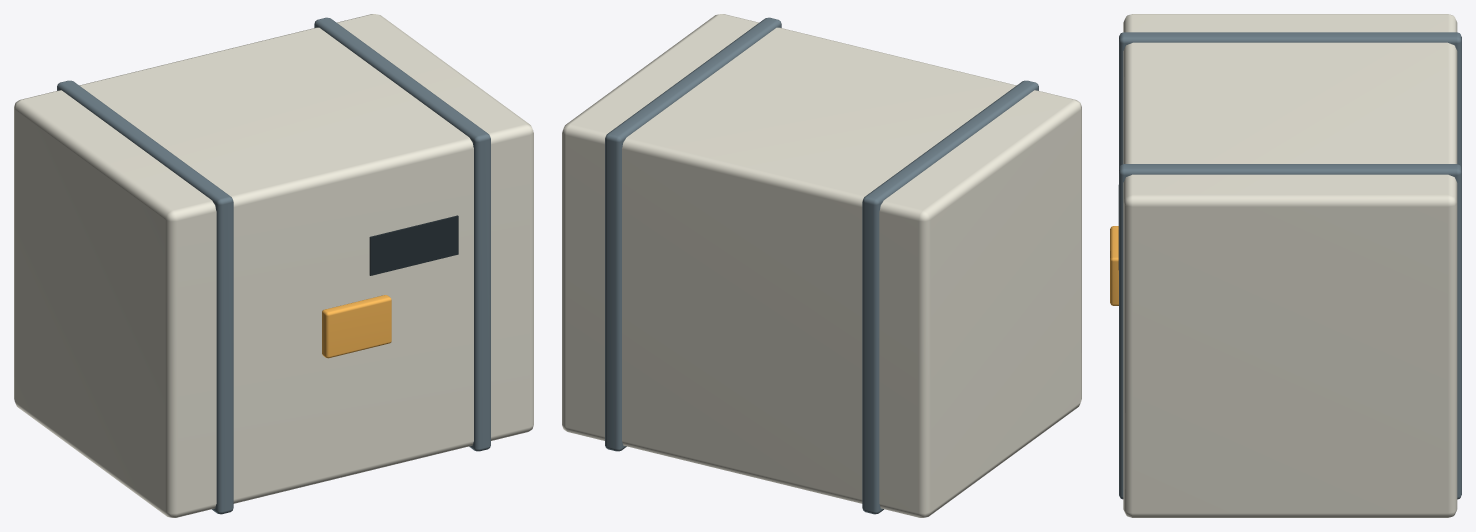
Rendered from SM_FE_CrateLarge.fbx.
3 renders of one model, left to right at view 1: azimuth 30°, elevation 25°; view 2: azimuth 150°, elevation 25°; view 3: azimuth 270°, elevation 25°, orthographic. The views are drawn at different scales.
Visible parts, largest first — view 1: SM_FE_CrateLarge; view 2: SM_FE_CrateLarge; view 3: SM_FE_CrateLarge.
Boxes of the visible parts, x1,y1,x2,y2 form: SM_FE_CrateLarge: [14, 14, 533, 517]; SM_FE_CrateLarge: [562, 14, 1081, 517]; SM_FE_CrateLarge: [1110, 14, 1461, 517].
Bounding box in the file's own units: 120 × 94.75 × 98.4.
